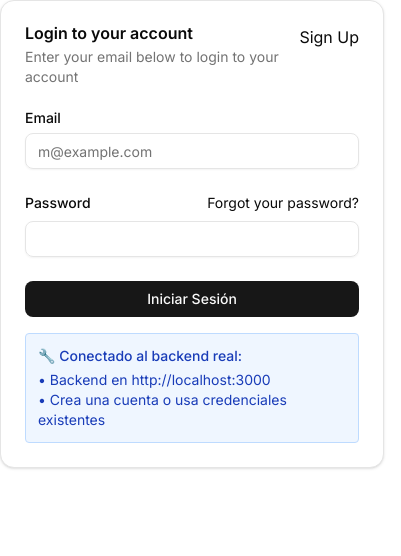
Test case: CardDemo (LoginComponent) › handles login error
Type "test@example.com" into the field labelled "Email".
click(192, 151); type("test@example.com")  # box [25,133,359,169]
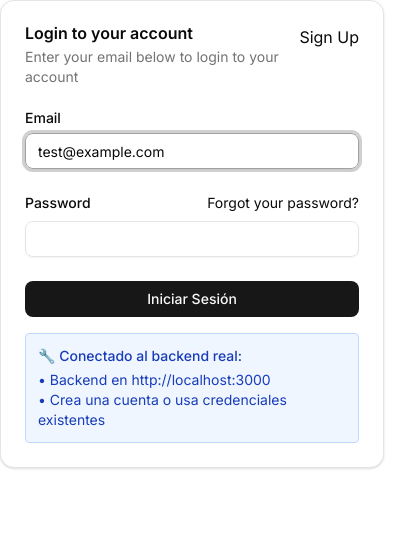
Type "wrongpassword" into the password field labelled "Password".
click(192, 239); type("wrongpassword")  # box [25,221,359,257]
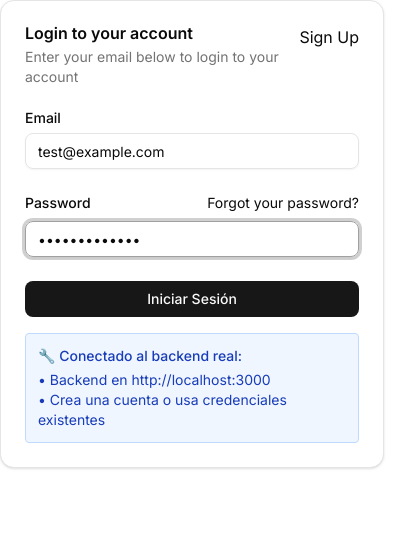
Click the button "Iniciar Sesión".
click(192, 299)  # box [25,281,359,317]
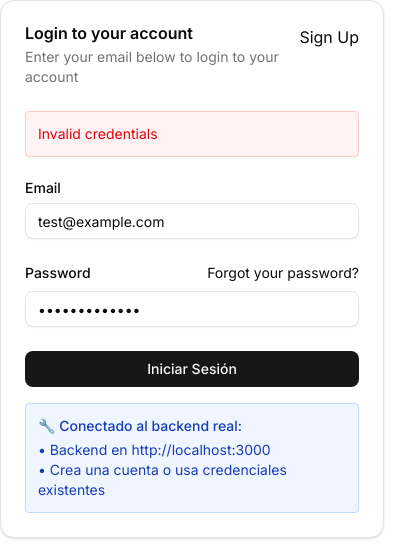
expect the text "Invalid credentials" is shown: met, box [25,111,359,157]
